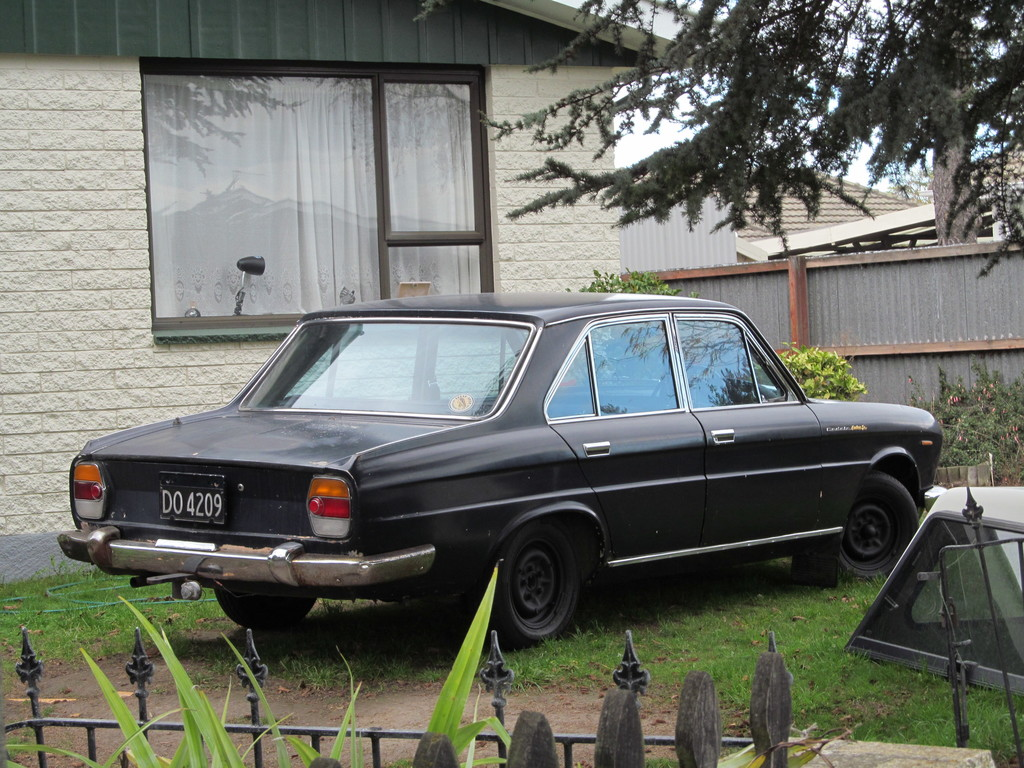Car: (54, 291, 940, 639)
